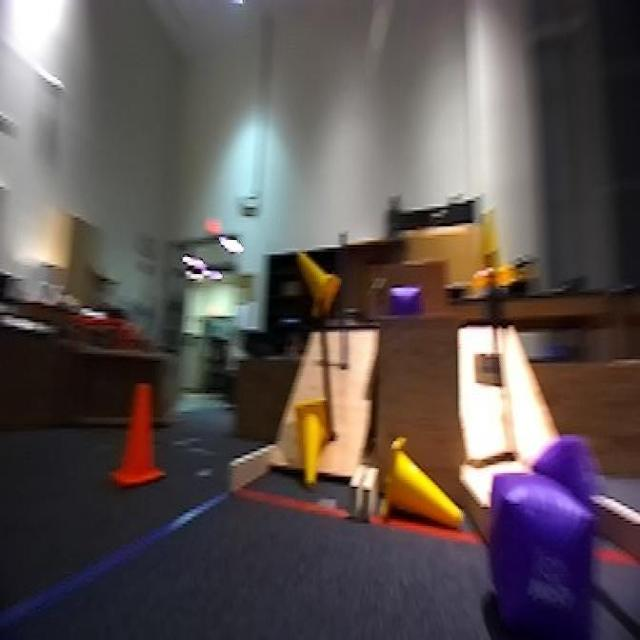frc_cone: (384, 441, 462, 533), (290, 242, 346, 328), (469, 206, 518, 298), (292, 396, 334, 498)
frc_cube: (486, 472, 596, 628), (531, 434, 602, 552), (386, 281, 424, 325)
